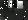person: (18, 3, 24, 13), (15, 2, 19, 12), (9, 1, 13, 9)
